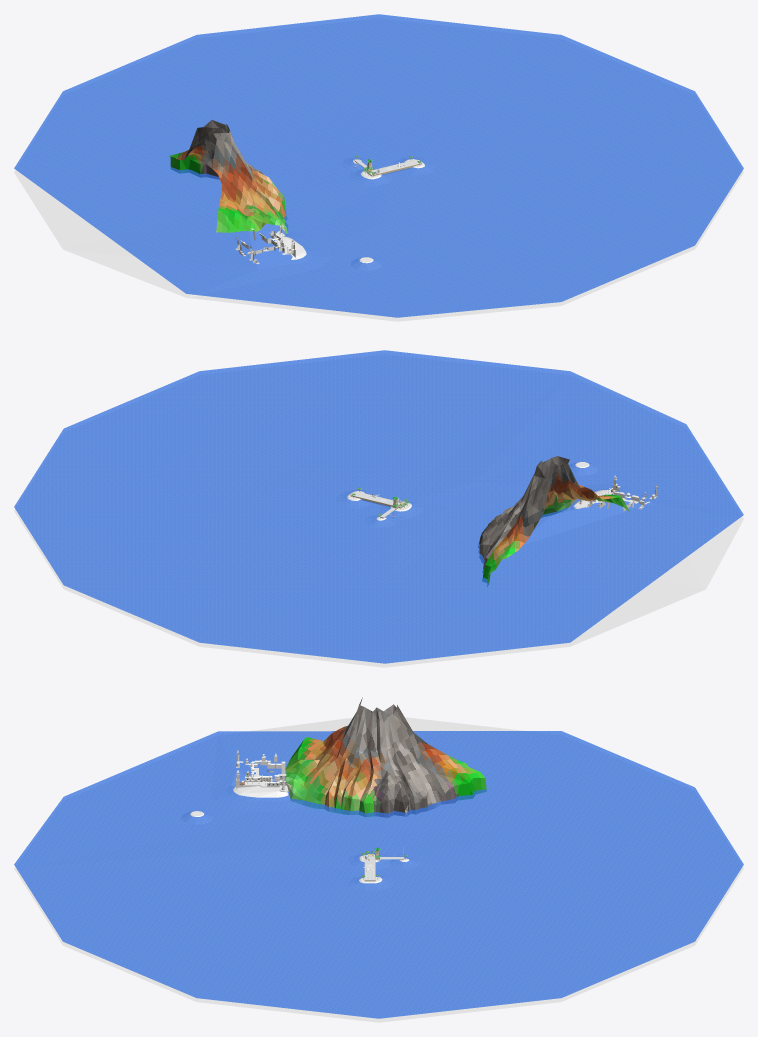
File: airport0_DS_Low_Poly.obj
3 renders of one model, top to bottom at view 1: azimuth 30°, elevation 25°; view 2: azimuth 150°, elevation 25°; view 3: azimuth 270°, elevation 25°, orthographic.
Visible parts, largest first — view 1: test; view 2: test; view 3: test.
Boxes of the visible parts, box(x1,y1,x2,y2) form: test: box(14, 14, 743, 321); test: box(14, 350, 743, 667); test: box(14, 697, 743, 1022).
Size of the model in its own units: 239 by 32.08 by 239.
